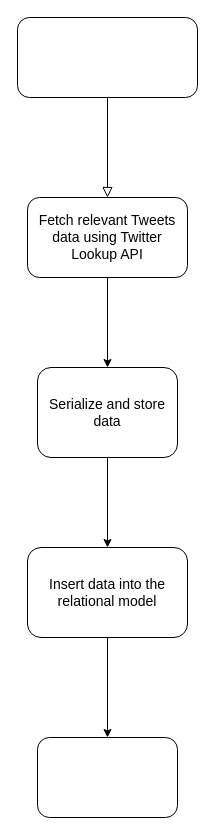
Image size: 215x835. Some labels were removed from this diagram. The shapes that lost their labels are listed below. From the top down, each one's centre as x and y in pixels, then its label:
At point (107, 57): "Fetch a list of tweet ids IEEE COVID-19 Tweets Dataset".
At point (107, 777): "Perform analysis using relevant SQL blocks".
